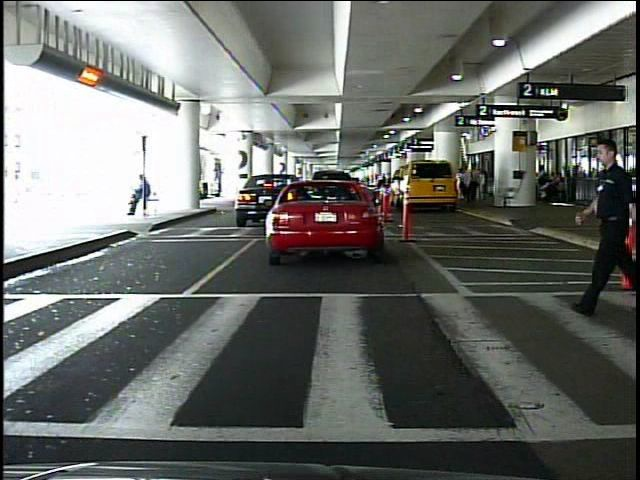person: (586, 137, 636, 317)
